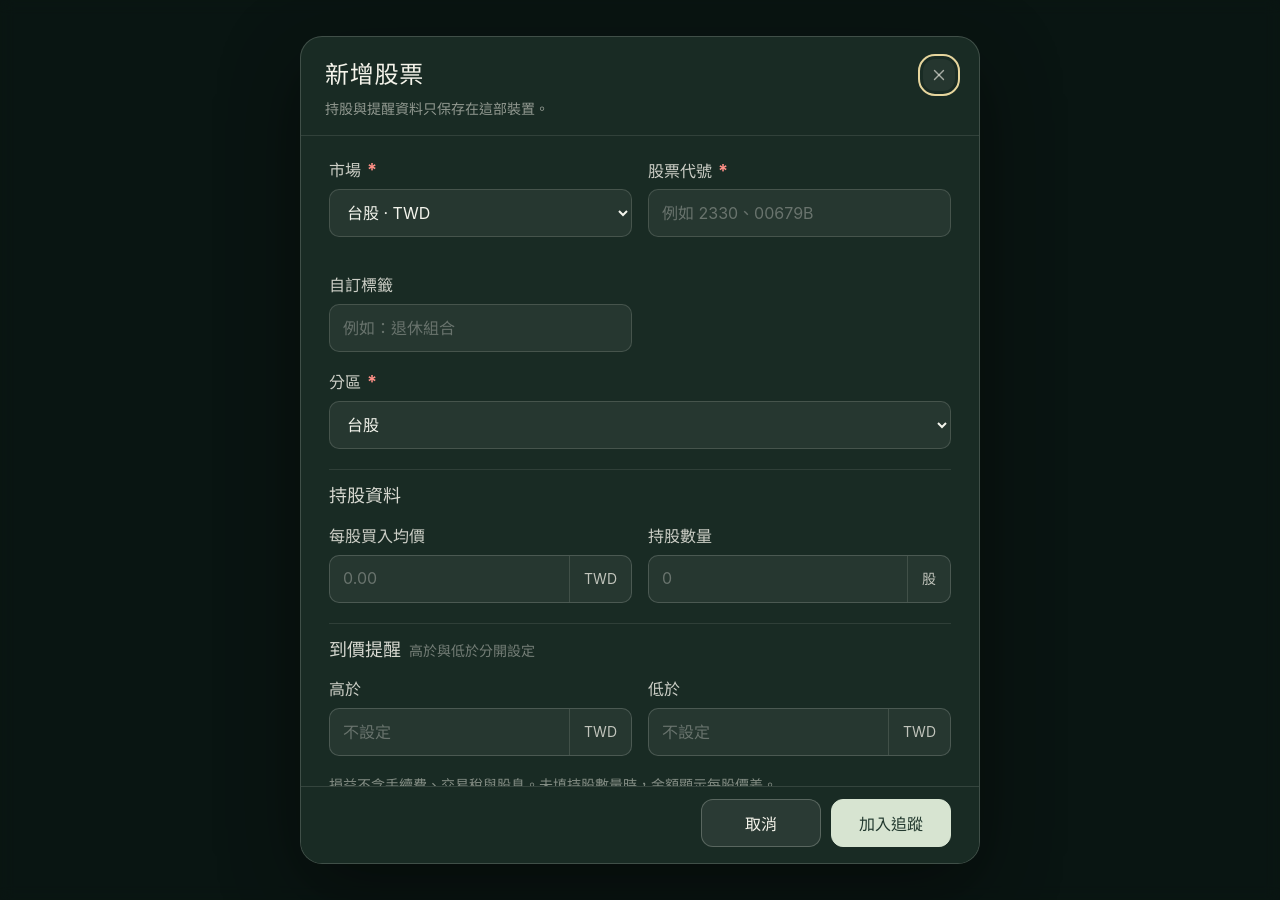
new-stock company name lookup › clears an old result on identity change and ignores an older response that resolves last
Type "2330" into the field labelled "股票代號" at (800, 213), box [662,190,937,236]
Wait 400 ms
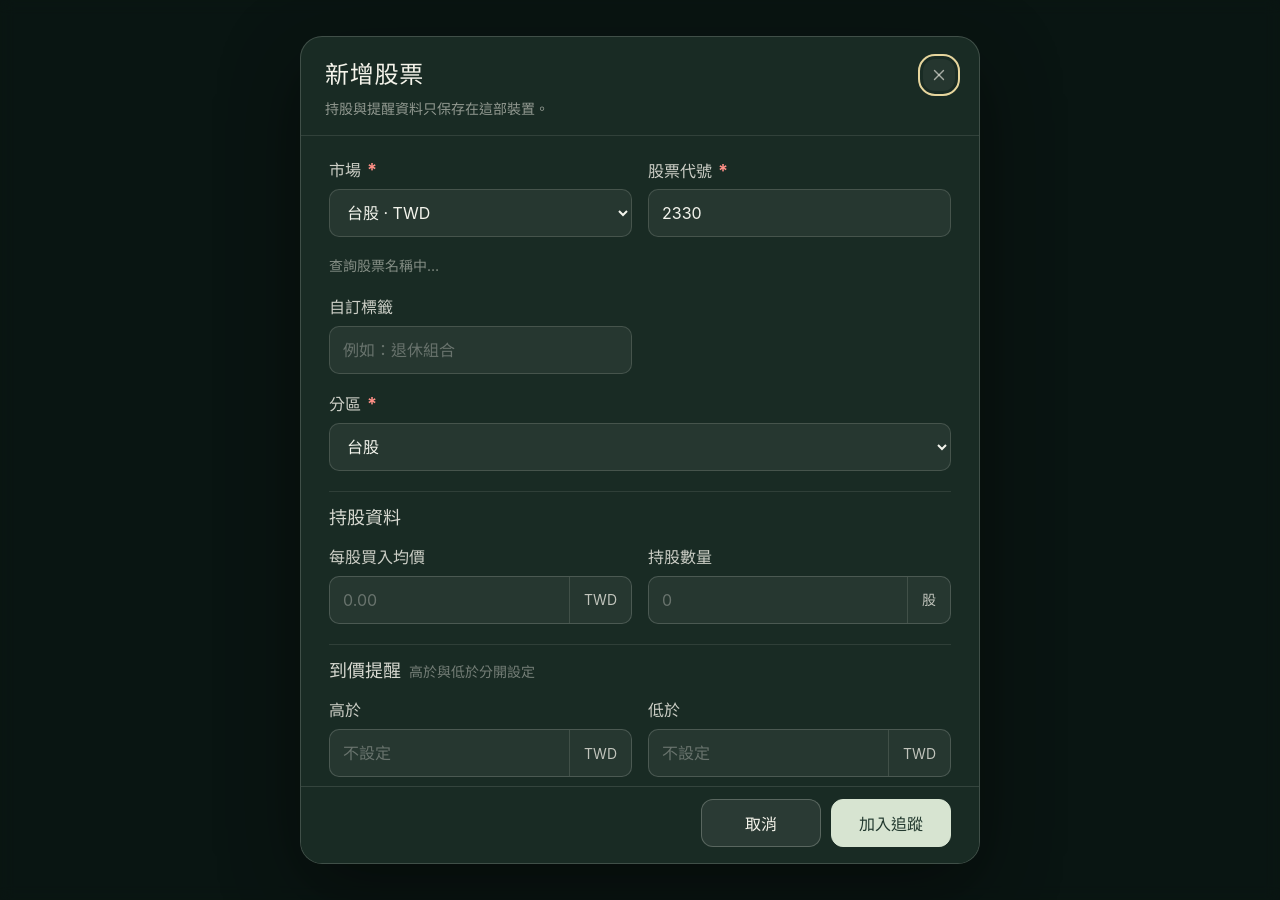
Check: the text "查詢股票名稱中…" is shown, box [329,257,439,274]
Replace the text in the field labelled "股票代號" with "2317" at (800, 213), box [662,190,937,236]
Wait 400 ms
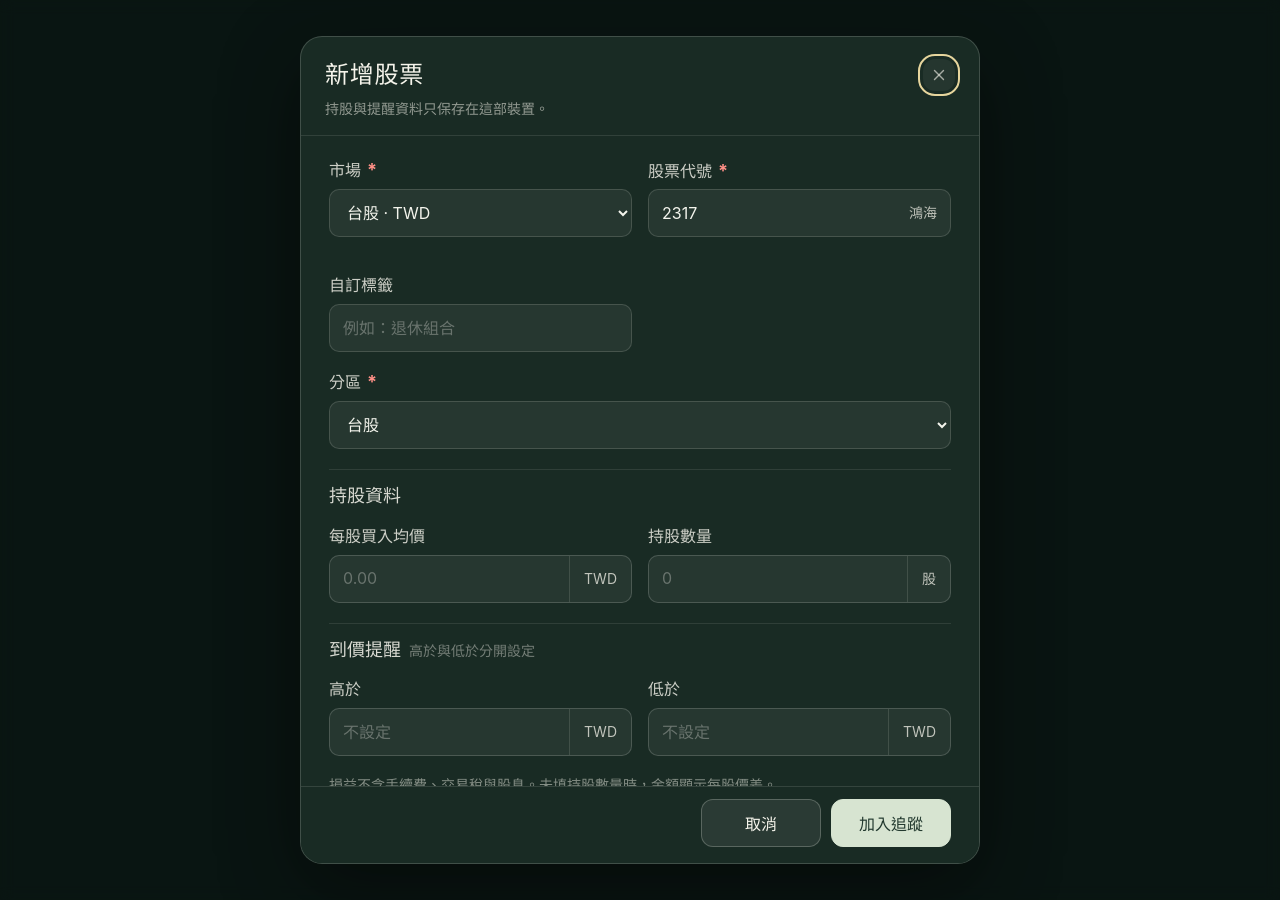
Check: the text "鴻海" is shown, box [909,203,937,223]
